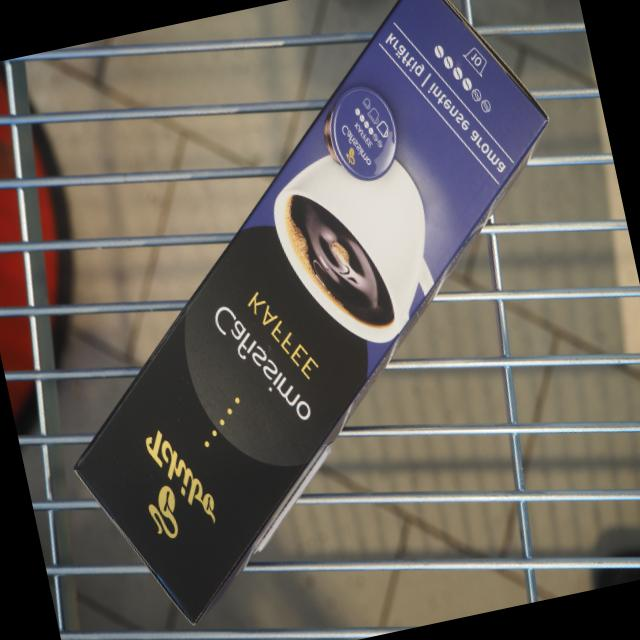Simo Kaffee Kraft: (67, 0, 553, 637)
